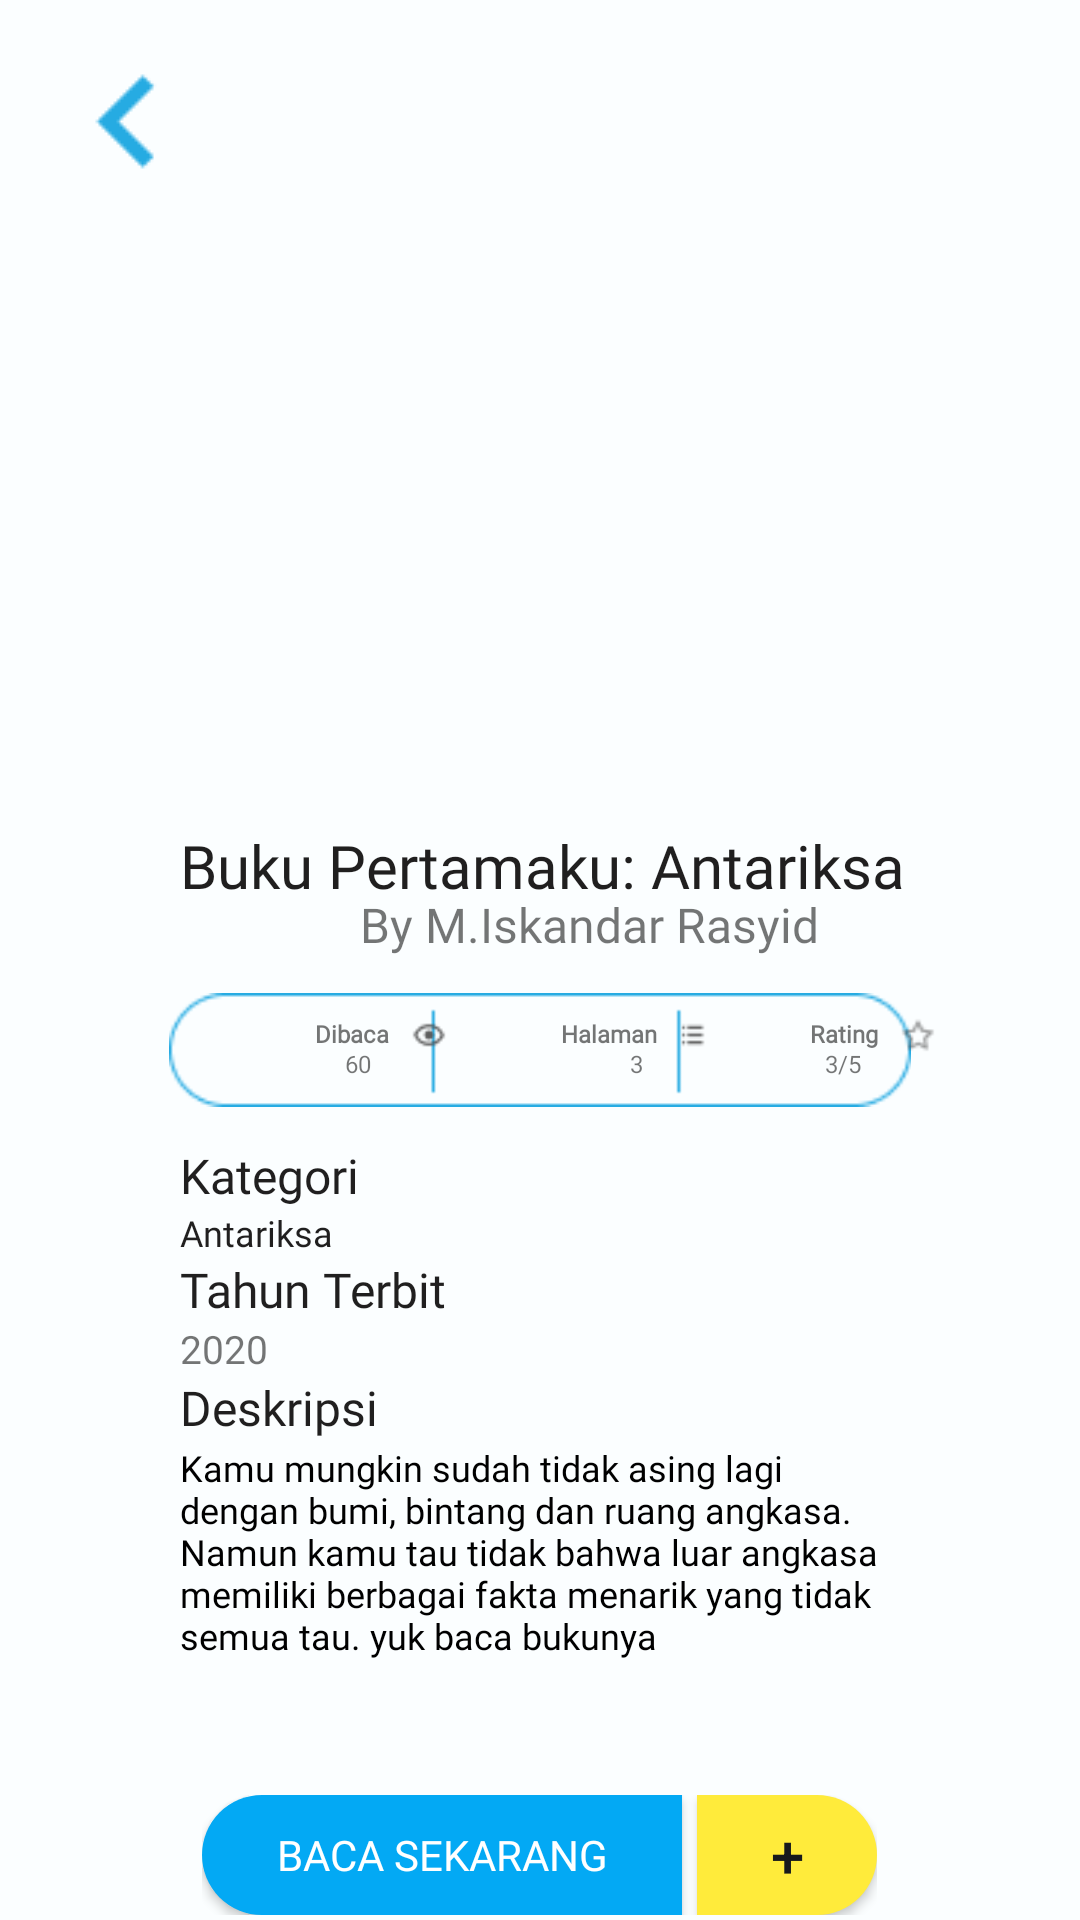

Screen size 1080px×1920px. Icon name, then its center in pixels as (x=x, y=y):
back: (x=124, y=121)
